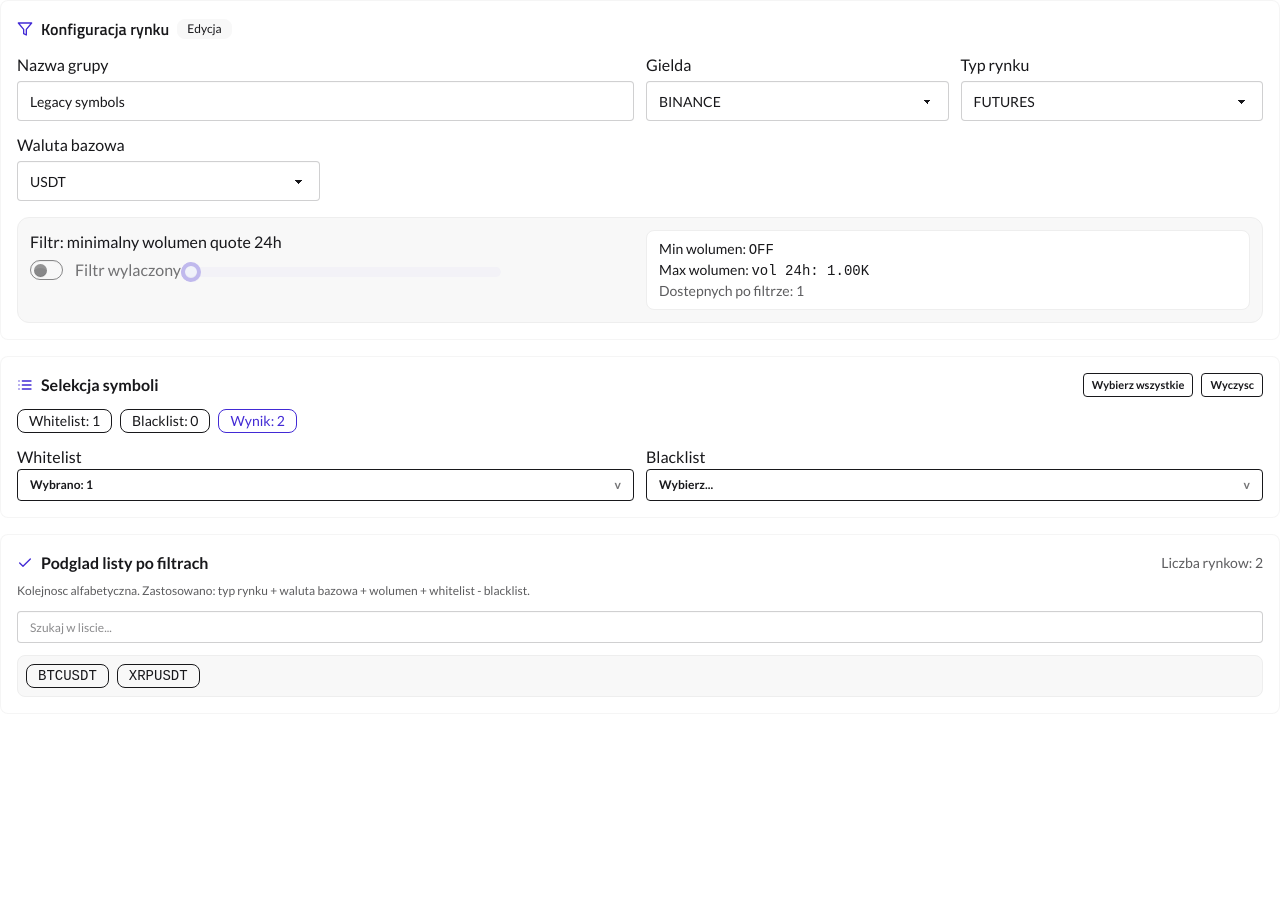
Test: MarketUniverseForm › shows saved symbols that are missing in current catalog so they can still be edited
What coordinates should you click on to do the following:
click the heading "Wybrano: 1 v"
I would click on:
 (61, 484)
Its box is 17,469 -> 634,501.
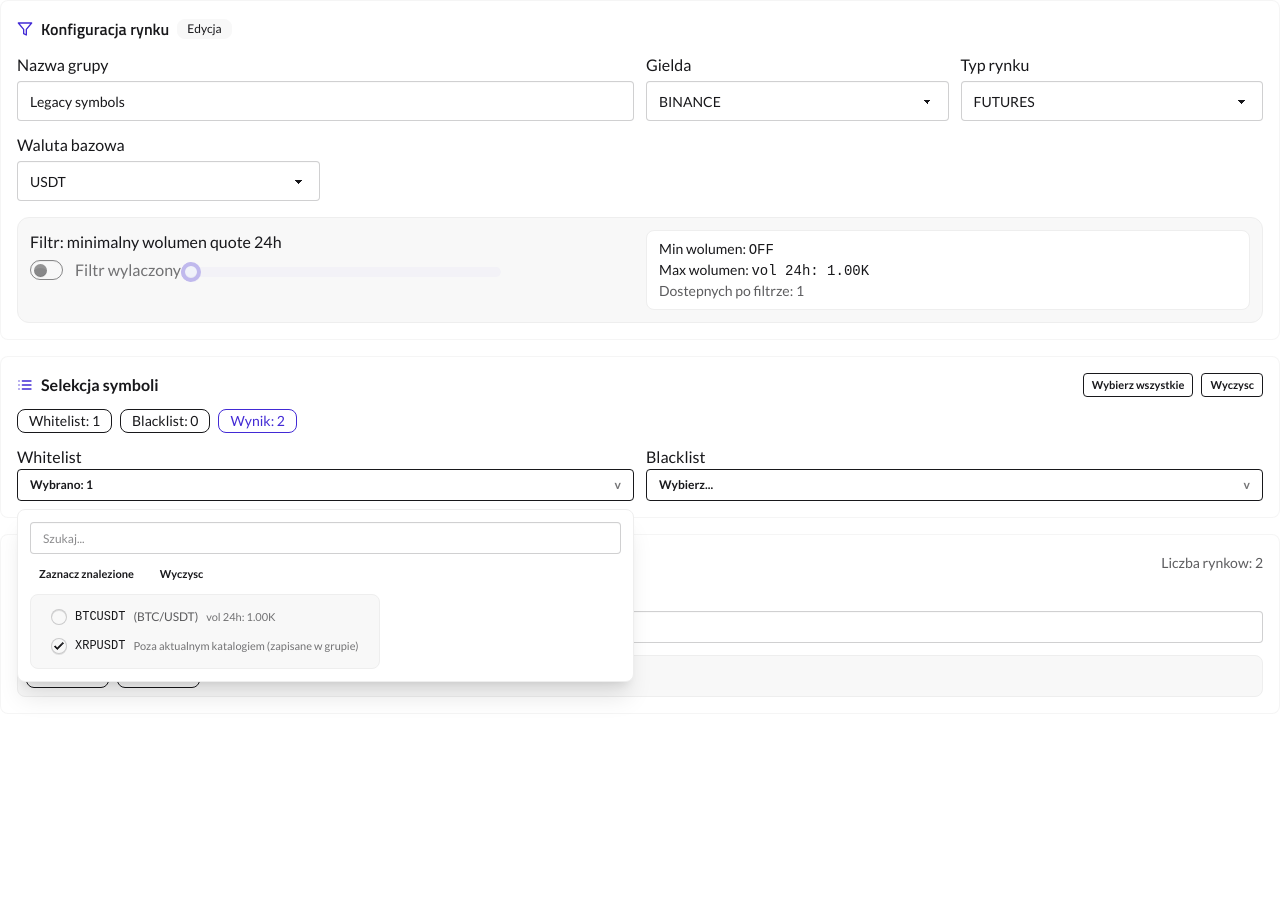
Expected: the text "Poza aktualnym katalogiem (zapisane w grupie)" is shown, 133,638 -> 358,654
